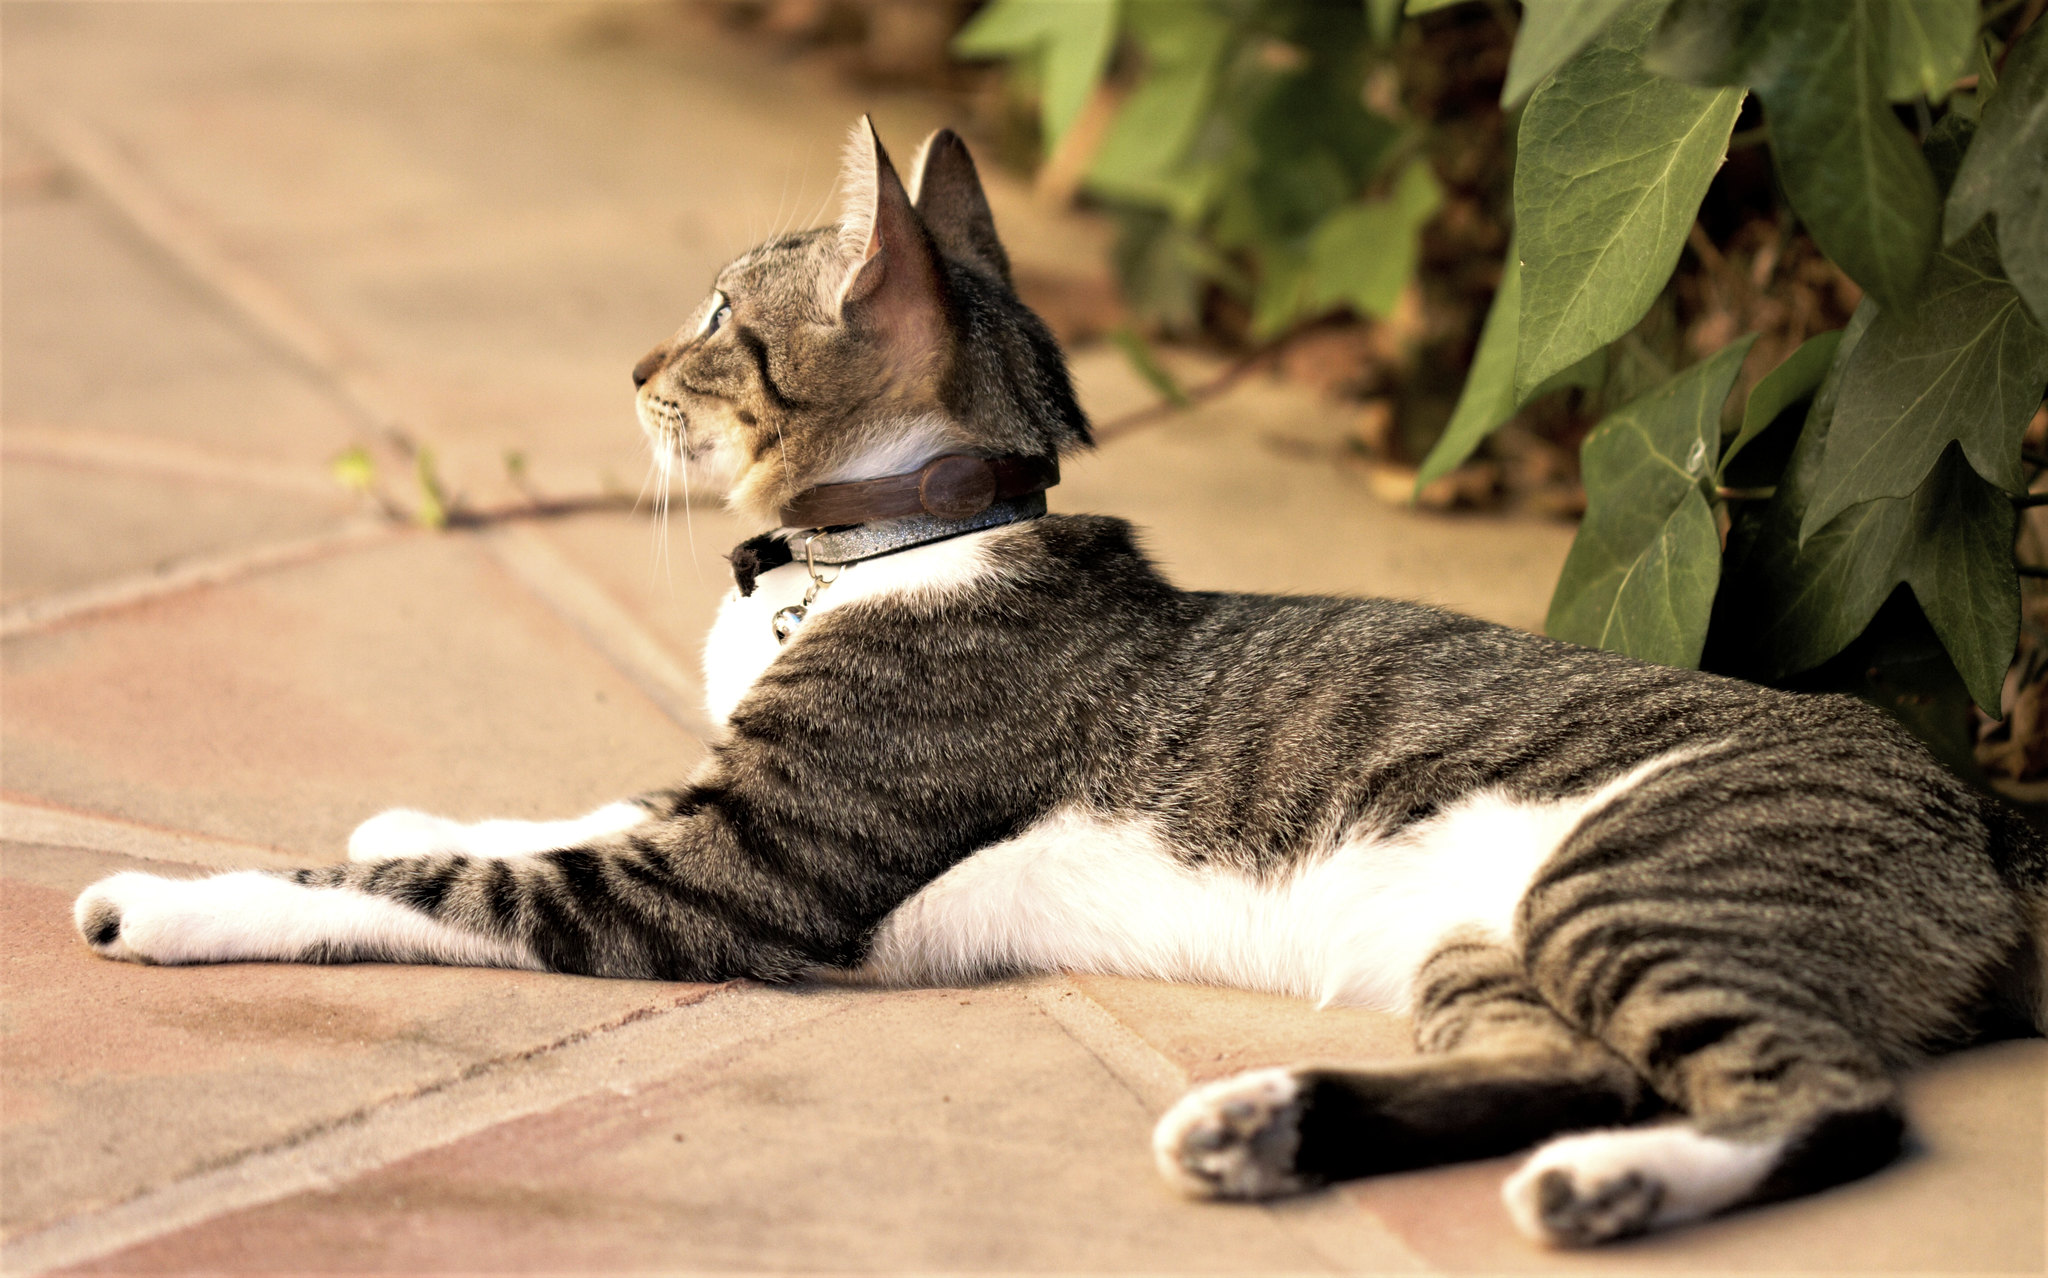cat: (80, 194, 2035, 1243)
